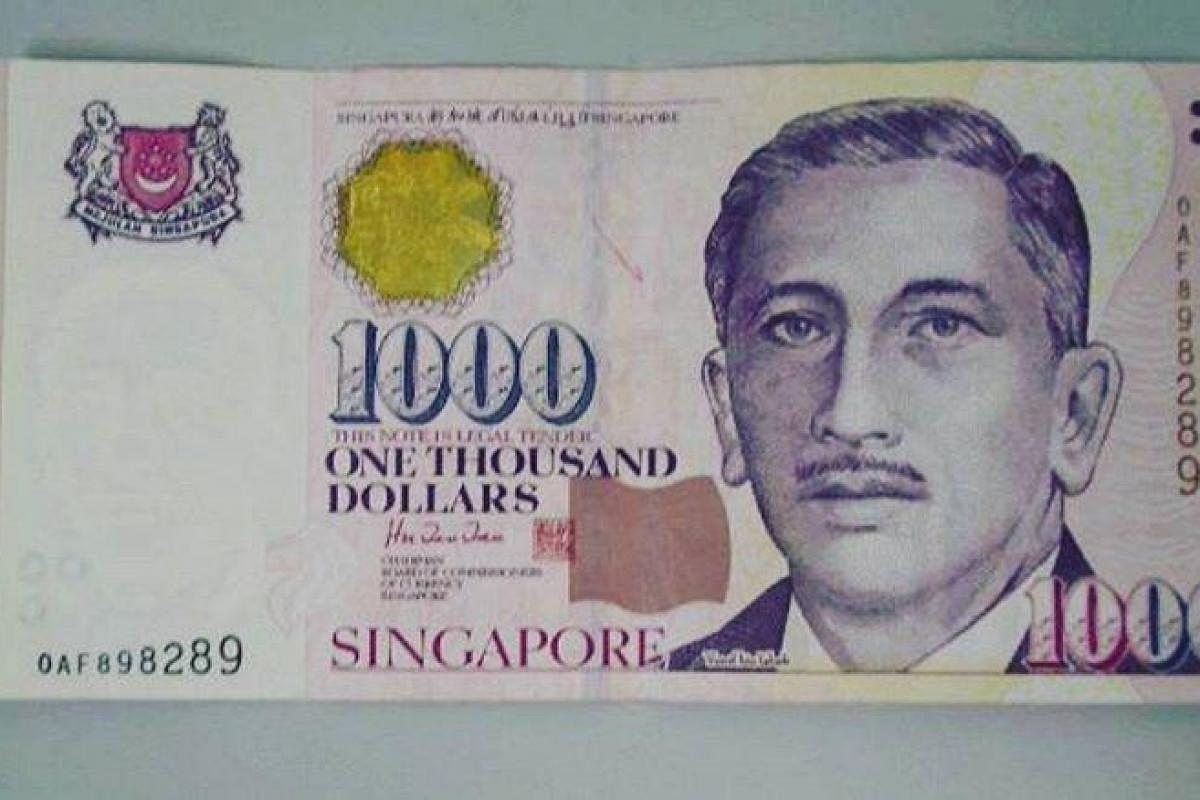1000SingaporeDollar: (0, 65, 1200, 697)
